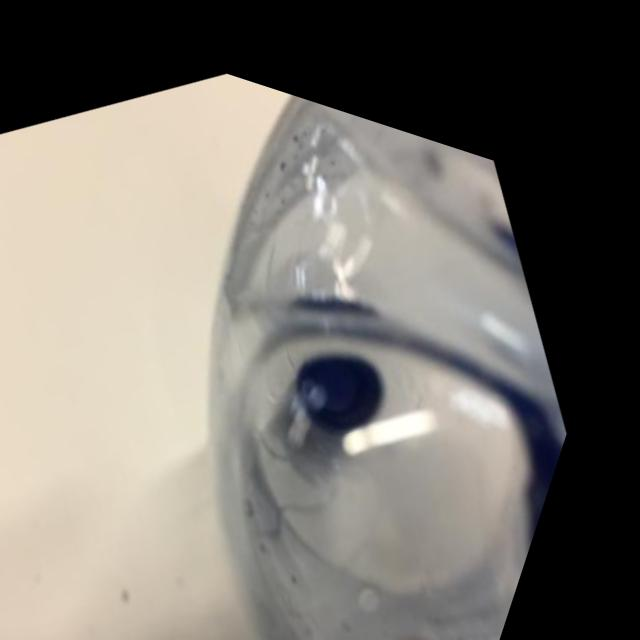plastic: (0, 27, 640, 640)
